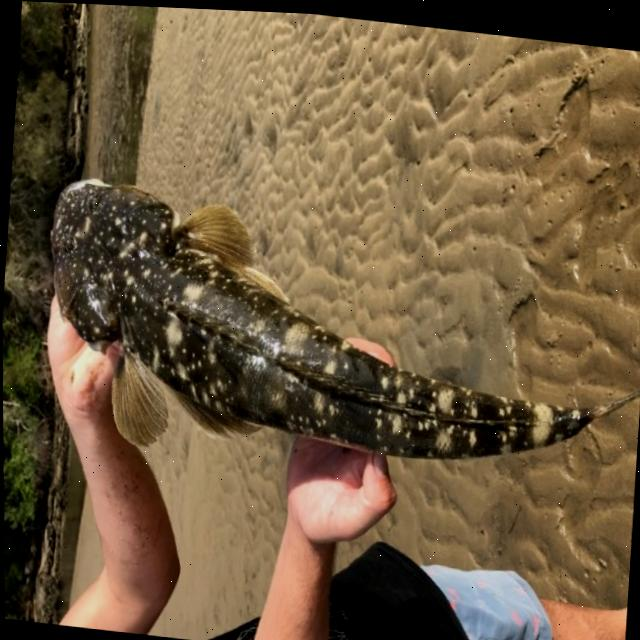Flathead: (29, 123, 640, 539)
